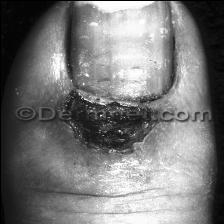Toxin: (68, 91, 160, 149)
